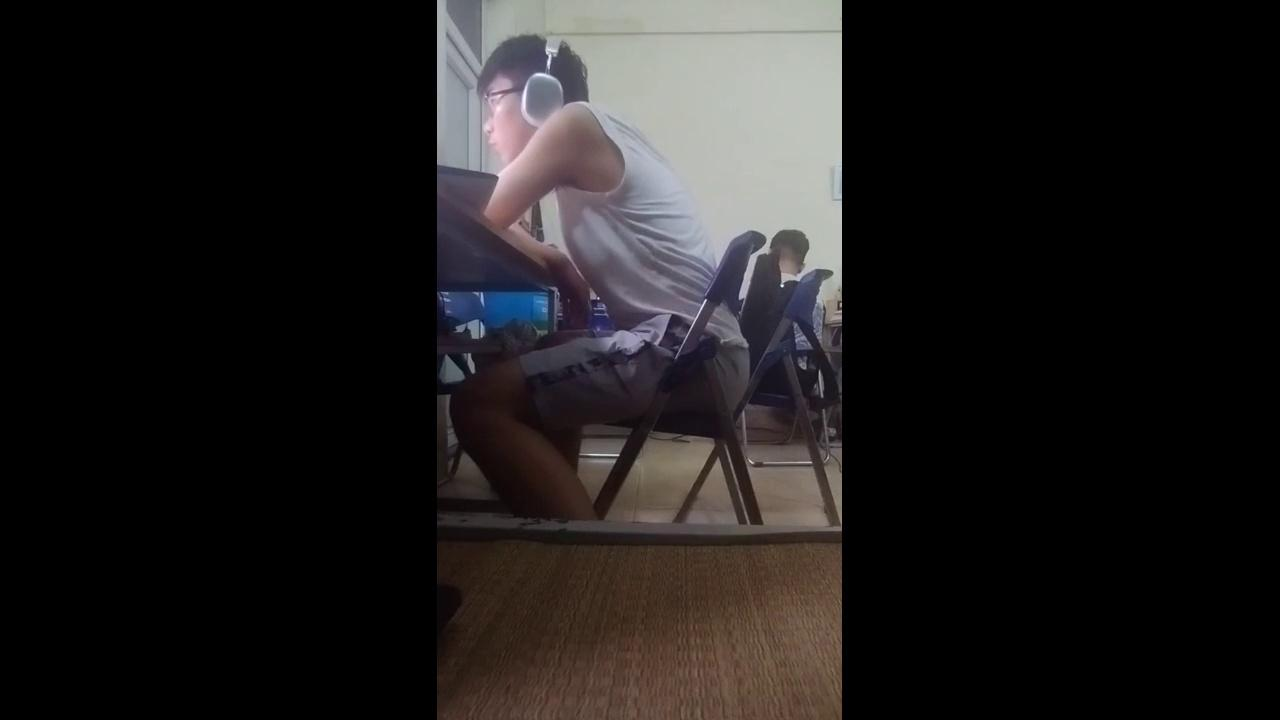BadPosture: (451, 35, 747, 519)
